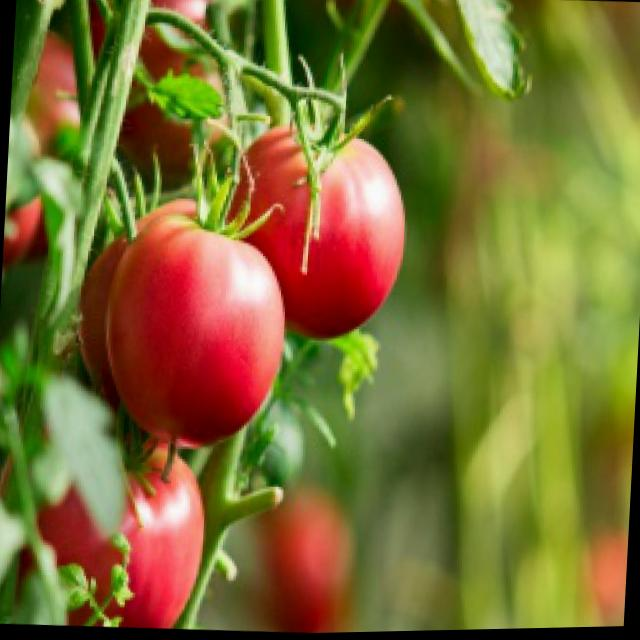tomato: (100, 226, 292, 452), (223, 125, 410, 345), (34, 442, 215, 631)
